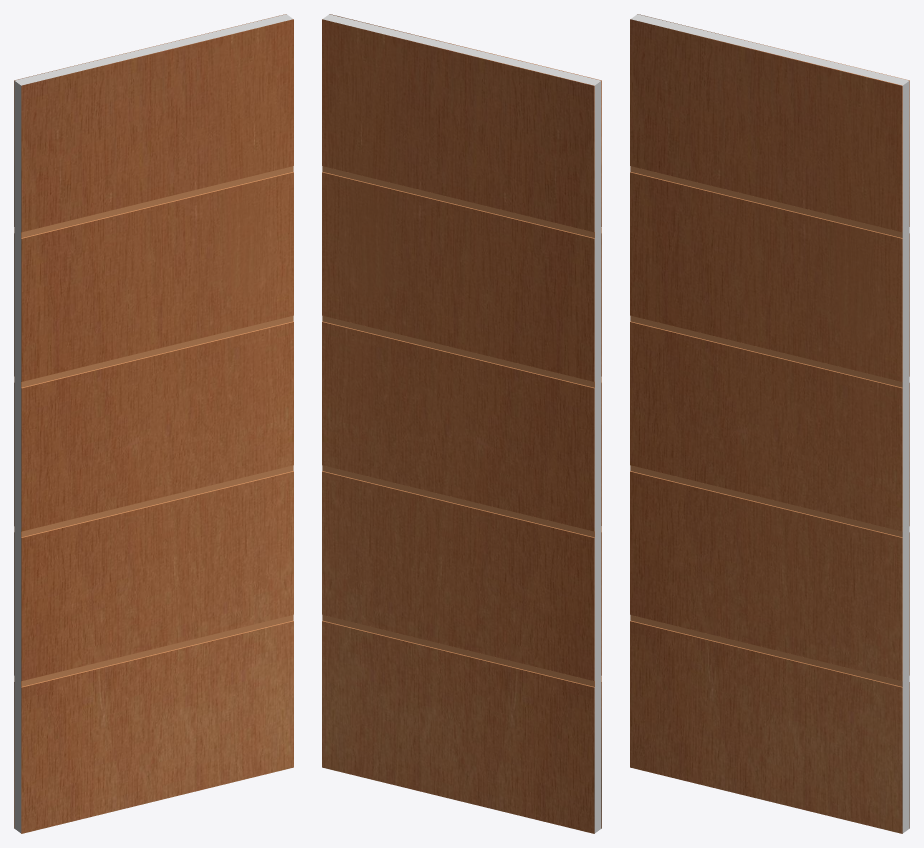
The model's file is Porta Frizzata 4 Sem Recheio.fbx.
3 renders of one model, left to right at view 1: azimuth 30°, elevation 25°; view 2: azimuth 150°, elevation 25°; view 3: azimuth 330°, elevation 25°, orthographic.
Parts seen in each view (by area): view 1: Frizzata_4f, recheio; view 2: Frizzata_4f, recheio; view 3: Frizzata_4f, recheio.
Boxes of the visible parts, x1=… form: Frizzata_4f: x1=14, y1=14, x2=293, y2=833; recheio: x1=14, y1=14, x2=292, y2=833; Frizzata_4f: x1=322, y1=14, x2=601, y2=833; recheio: x1=323, y1=14, x2=601, y2=833; Frizzata_4f: x1=630, y1=14, x2=909, y2=833; recheio: x1=631, y1=14, x2=909, y2=833.
Bounding box in the file's own units: 80.01 × 210 × 3.87.
